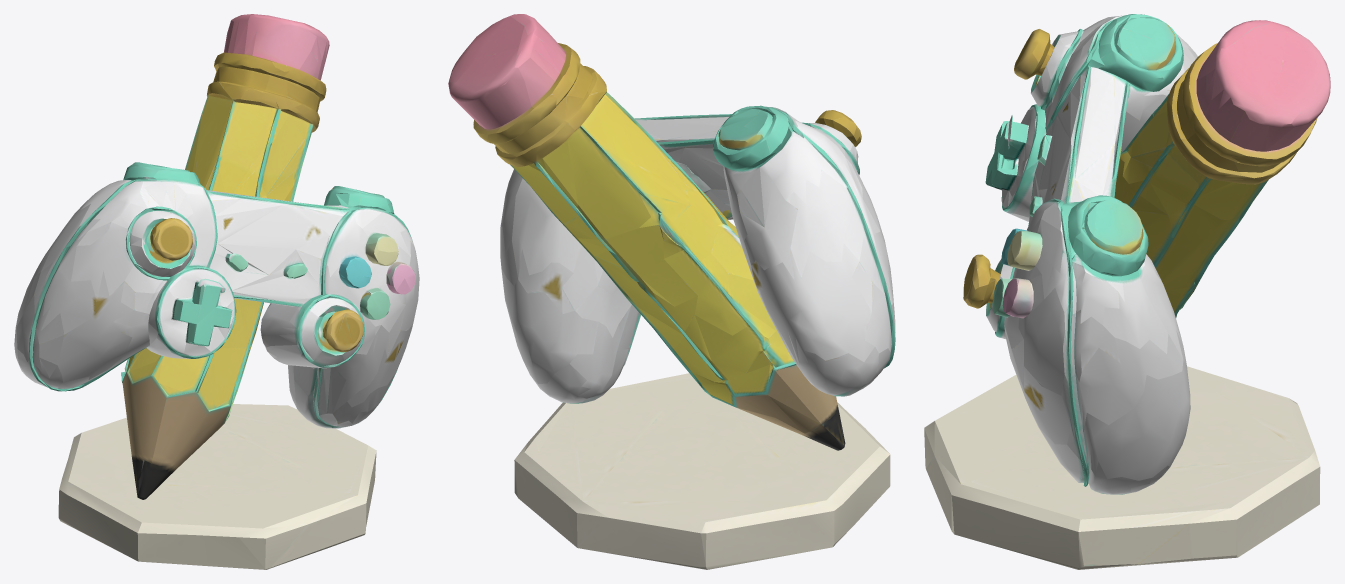
Rendered from landmark.glb.
3 views of the same model, side by side, from view 1: azimuth 30°, elevation 25°; view 2: azimuth 150°, elevation 25°; view 3: azimuth 270°, elevation 25° (orthographic). The views are drawn at different scales.
Bounding box in the file's own units: 1.67 × 1.9 × 1.33.
Materials: 1 (1 with a texture image).
